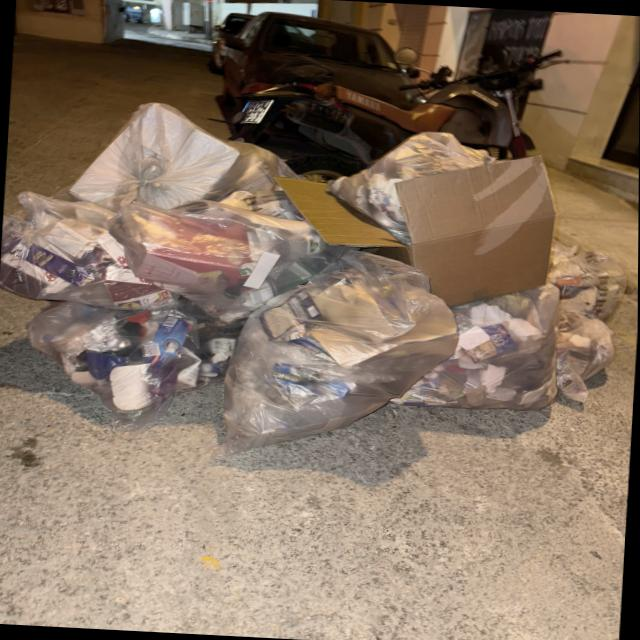Recyclable Material -Grey Bags-: (1, 103, 630, 458), (328, 130, 500, 244)
